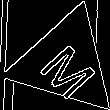M_NE: (30, 28, 100, 97)
